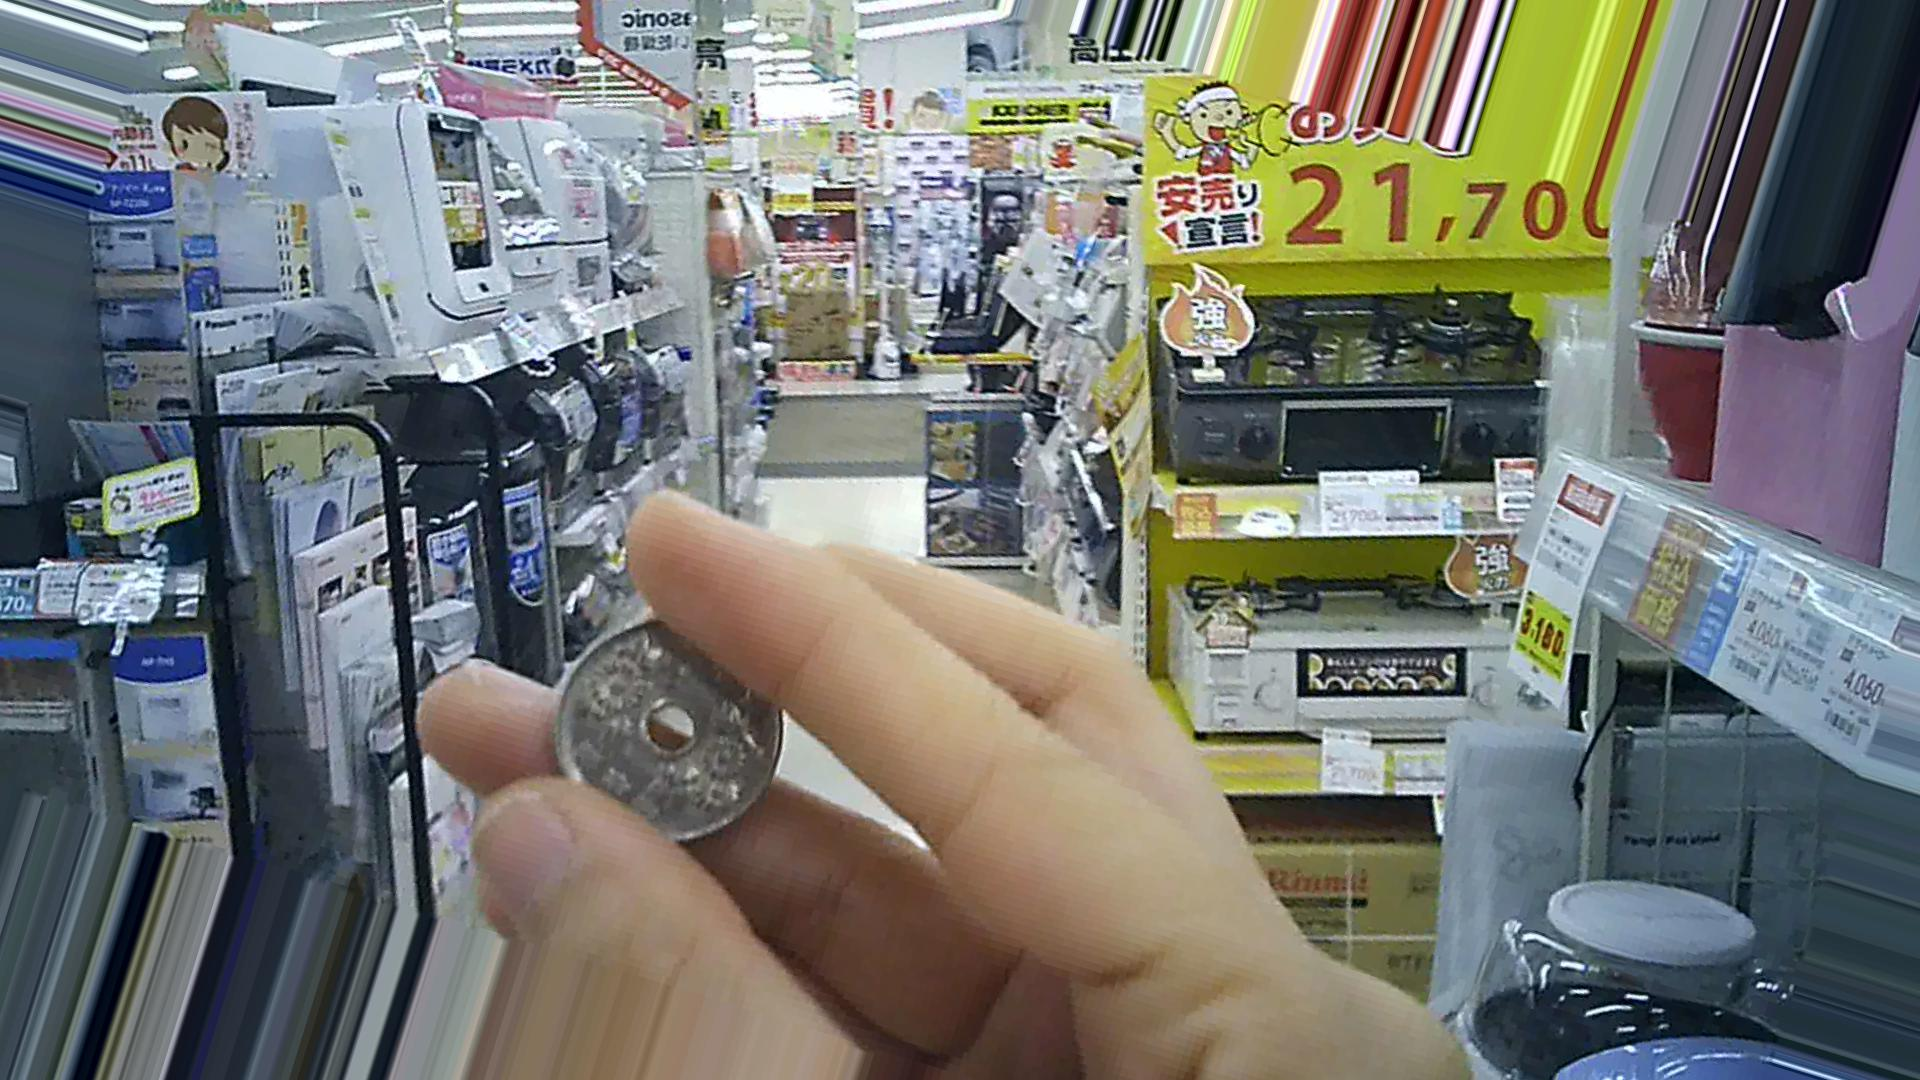50 Yen: (556, 603, 787, 860)
